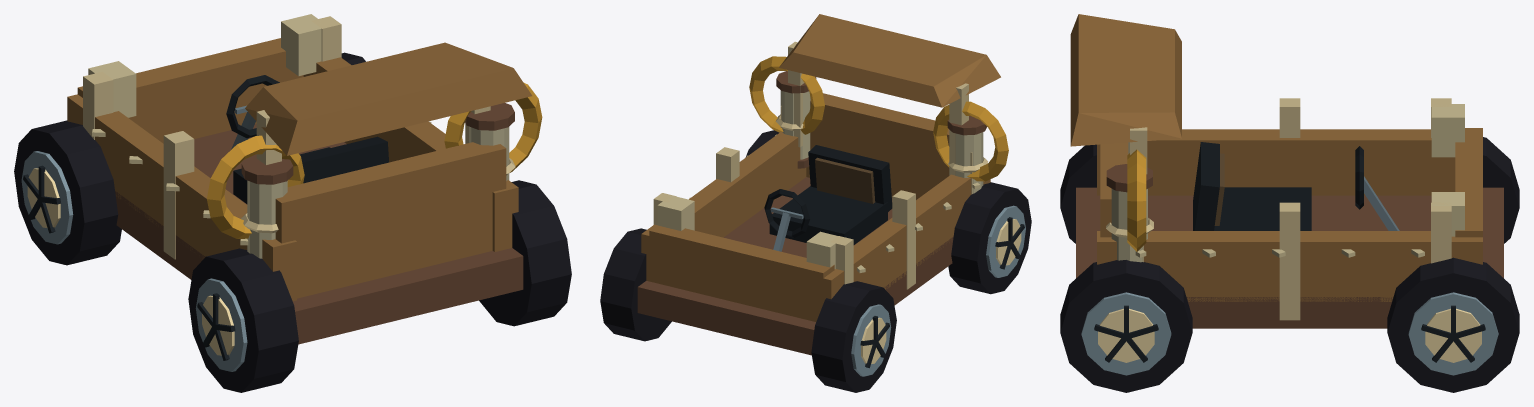
The model's file is kart.glb.
3 views of the same model, side by side, from view 1: azimuth 30°, elevation 25°; view 2: azimuth 150°, elevation 25°; view 3: azimuth 270°, elevation 25° (orthographic). The views are drawn at different scales.
Parts seen in each view (by area): view 1: identity-carriage-carriage-timber-coach, wheel-rear-left, wheel-front-left, wheel-rear-right, identity-carriage-motif-scrolls, identity-carriage-motif-ring, identity-carriage-driver-cockpit; view 2: identity-carriage-carriage-timber-coach, identity-carriage-driver-cockpit, wheel-front-left, wheel-rear-left, identity-carriage-motif-ring, wheel-front-right, identity-carriage-motif-scrolls; view 3: identity-carriage-carriage-timber-coach, wheel-front-right, wheel-rear-right, identity-carriage-driver-cockpit, identity-carriage-motif-scrolls, wheel-front-left, wheel-rear-left, identity-carriage-motif-ring, identity-carriage-motif-suture.
Boxes of the visible parts, box(x1,y1,x2,y2) form: identity-carriage-carriage-timber-coach: box(67, 14, 532, 344); wheel-rear-left: box(188, 248, 298, 392); wheel-front-left: box(14, 120, 121, 265); wheel-rear-right: box(479, 180, 571, 326); identity-carriage-motif-scrolls: box(241, 103, 515, 258); identity-carriage-motif-ring: box(207, 82, 542, 238); identity-carriage-driver-cockpit: box(226, 75, 388, 203); identity-carriage-carriage-timber-coach: box(637, 14, 1000, 355); identity-carriage-driver-cockpit: box(764, 145, 892, 251); wheel-front-left: box(811, 281, 896, 392); wheel-rear-left: box(948, 182, 1031, 294); identity-carriage-motif-ring: box(749, 56, 1008, 181); wheel-front-right: box(600, 228, 671, 341); identity-carriage-motif-scrolls: box(775, 71, 988, 193); identity-carriage-carriage-timber-coach: box(1070, 14, 1503, 328); wheel-front-right: box(1387, 257, 1519, 392); wheel-rear-right: box(1060, 260, 1192, 392); identity-carriage-driver-cockpit: box(1193, 142, 1399, 230); identity-carriage-motif-scrolls: box(1106, 142, 1153, 262); wheel-front-left: box(1483, 137, 1519, 243); wheel-rear-left: box(1060, 144, 1096, 243); identity-carriage-motif-ring: box(1127, 149, 1146, 251); identity-carriage-motif-suture: box(1135, 249, 1424, 257).
Size of the model in its own units: 2.09 by 1.63 by 2.64.
